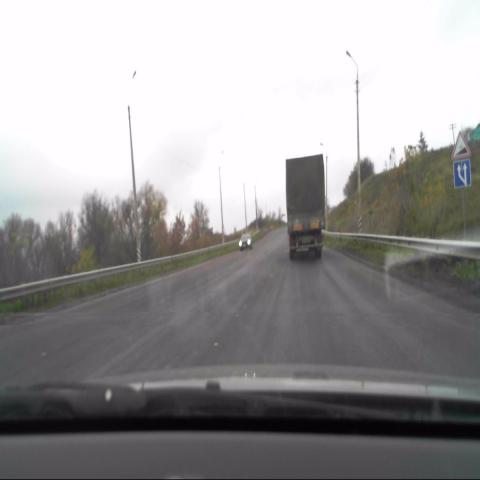1_14: (450, 129, 468, 158)
